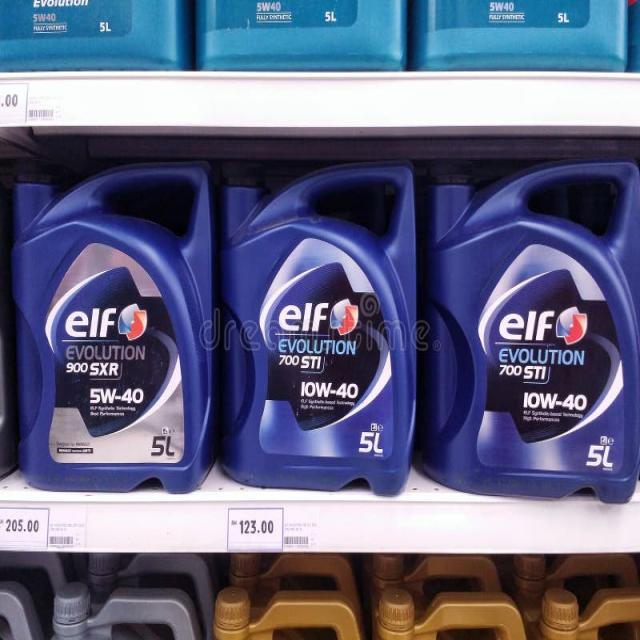motor_oil: (425, 154, 639, 501), (13, 160, 222, 498), (226, 156, 419, 489)
